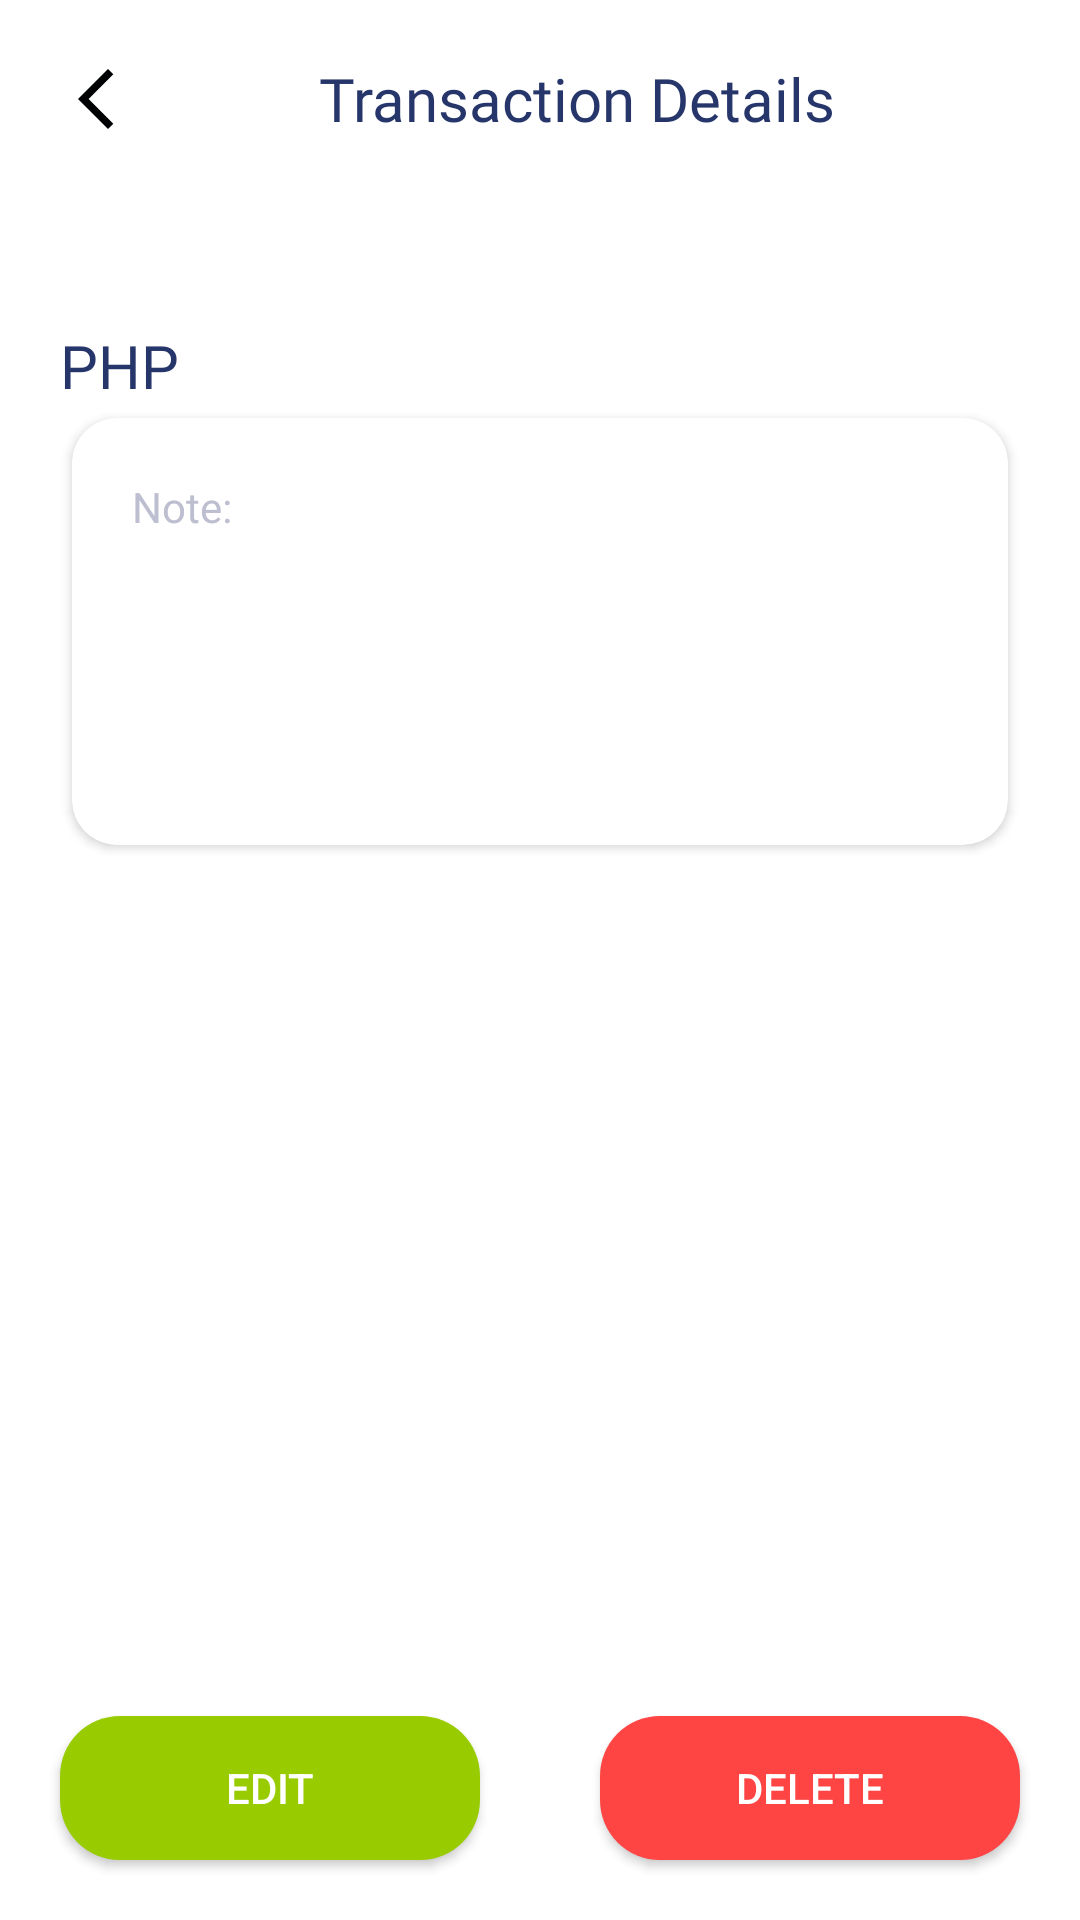

Locate icon controls on the screen. Image size 1080px×1920px, boxes as (x1, y1, x2, y2).
arrow back: (78, 69, 113, 129)
